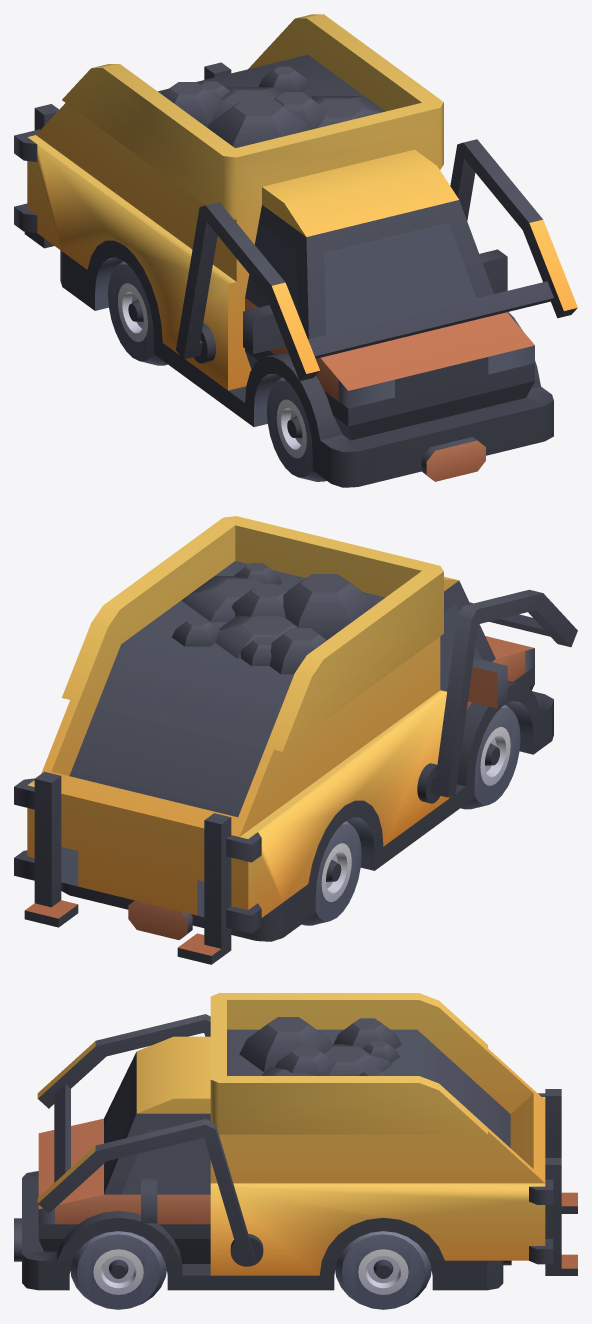
File: garbage-truck-transformed.glb
The picture shows the model from 3 angles, top to bottom: view 1: azimuth 30°, elevation 25°; view 2: azimuth 150°, elevation 25°; view 3: azimuth 270°, elevation 25°; orthographic projection. The views are drawn at different scales.
Visible parts, largest first — view 1: arm; view 2: arm; view 3: arm.
Boxes of the visible parts, left/top/right/bottom form: arm: left=14, top=14, right=577, bottom=487; arm: left=14, top=516, right=577, bottom=964; arm: left=14, top=993, right=577, bottom=1309.
Size of the model in its own units: 1.6 by 1.6 by 3.45.
1 material, 1 textured.
